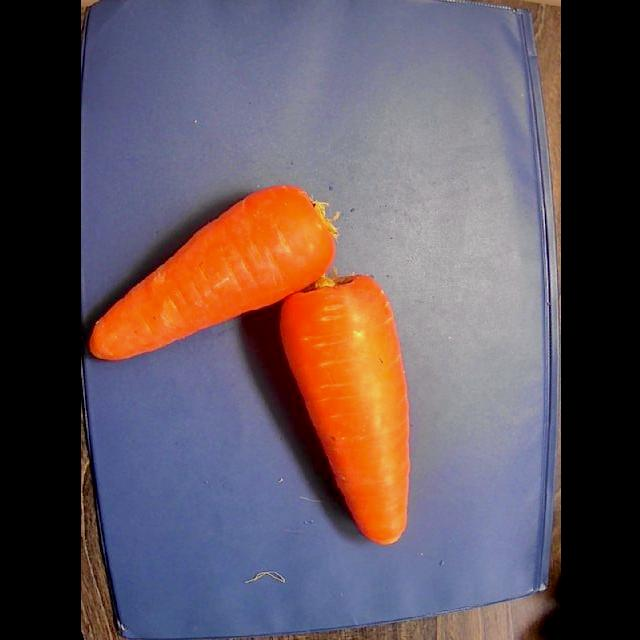zanahoria: (90, 185, 336, 360), (280, 275, 409, 544)
